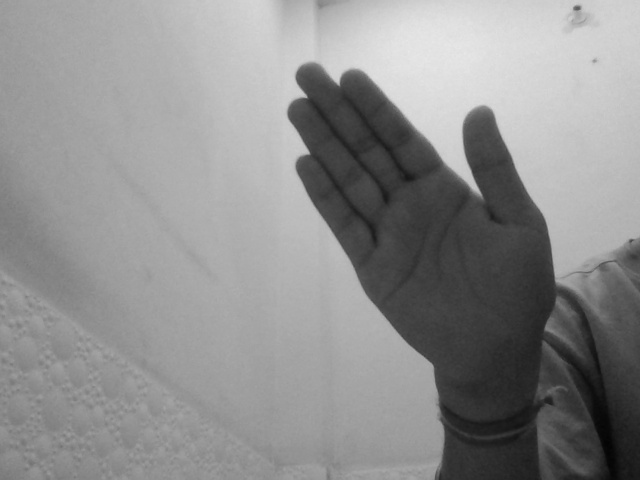Hello: (278, 64, 561, 392)
